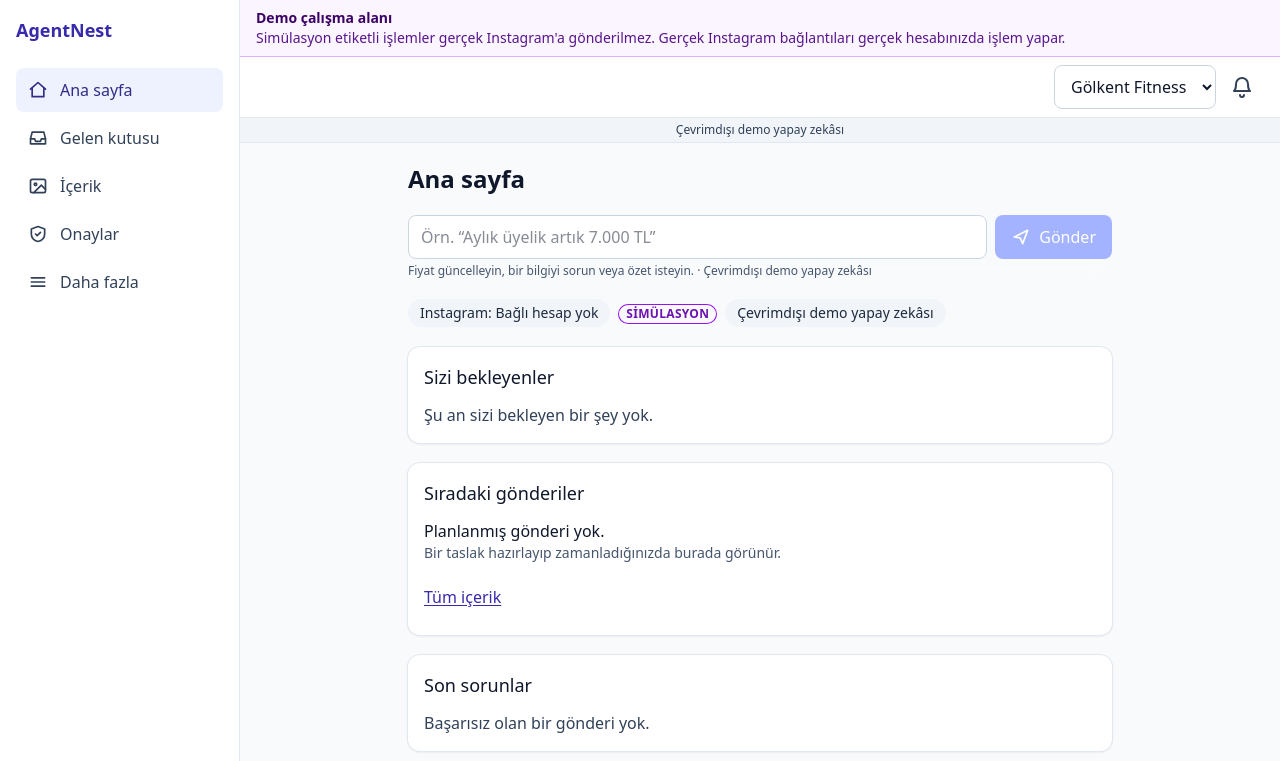
Test: command bar › asks which fact was meant and continues with the chosen option
In the field named "Komut": (698, 237) [408,215,987,259], type "fiyat artık 7000"
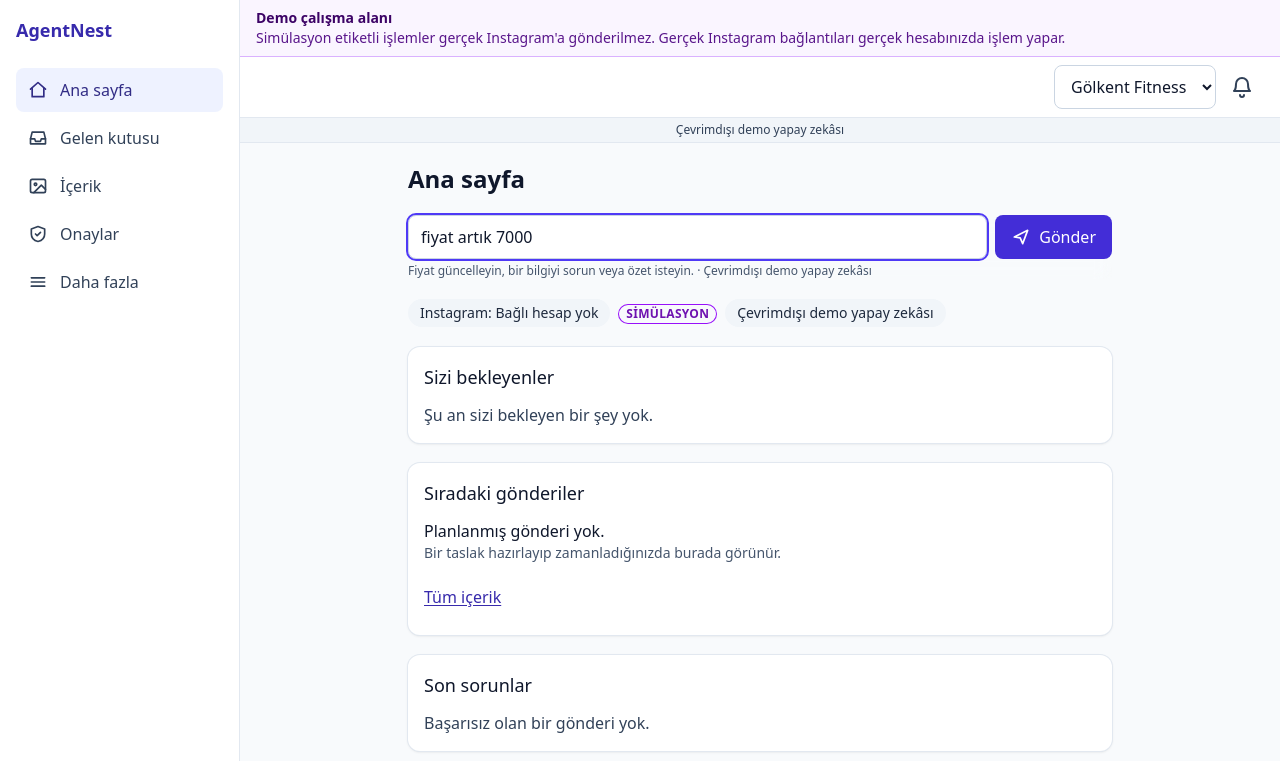
Click the button "Gönder": (1054, 237) [995,215,1112,259]
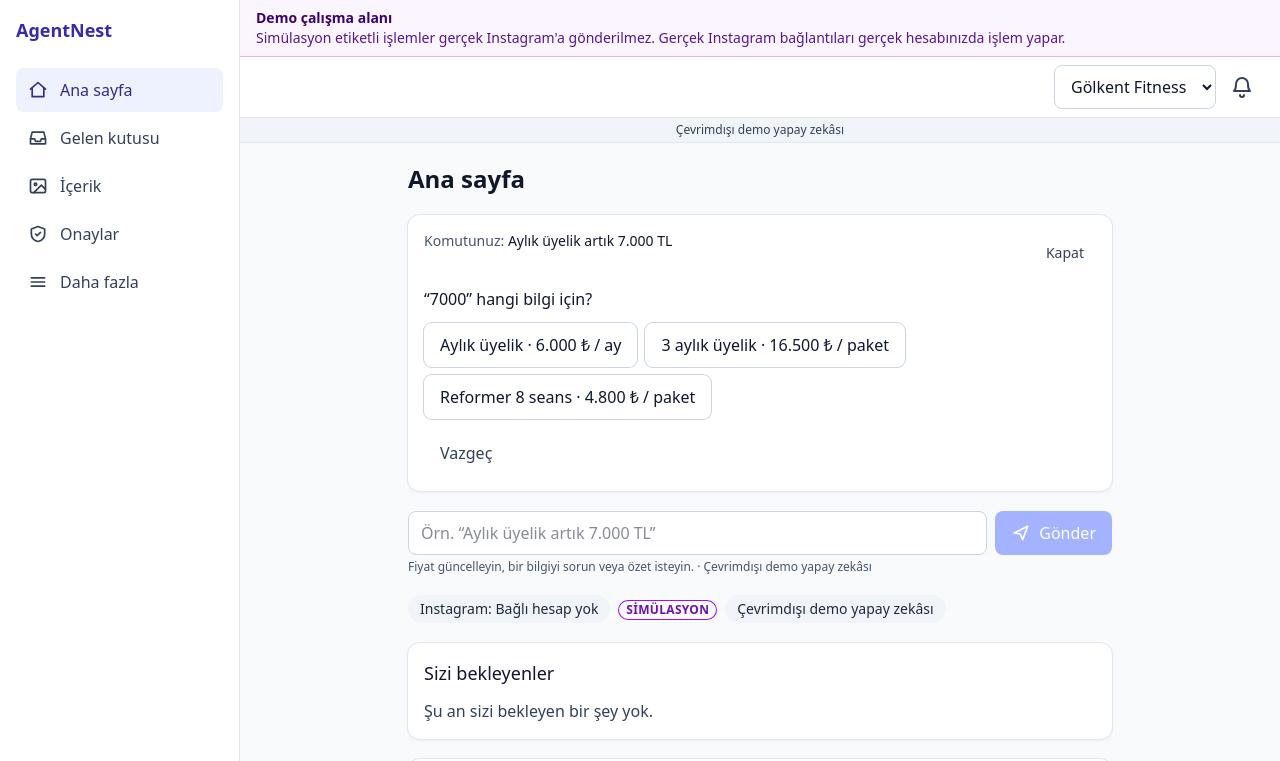
Check: the element with test id "clarification" shows "“7000” hangi bilgi için?", box [424,288,592,310]
Click the button "3 aylık üyelik · 16.500 ₺ / paket": (775, 345) [646,323,905,367]
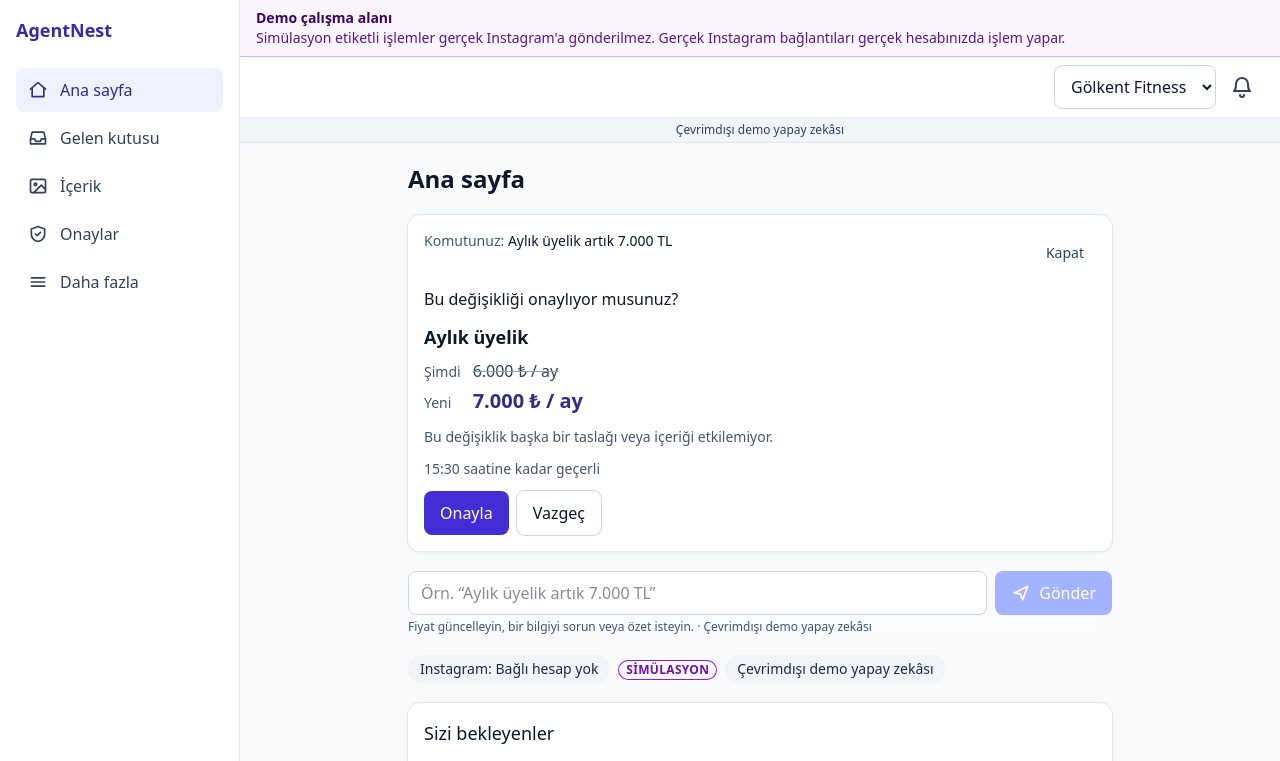
Check: the element with test id "confirmation-card" is shown, box [424,288,773,535]
